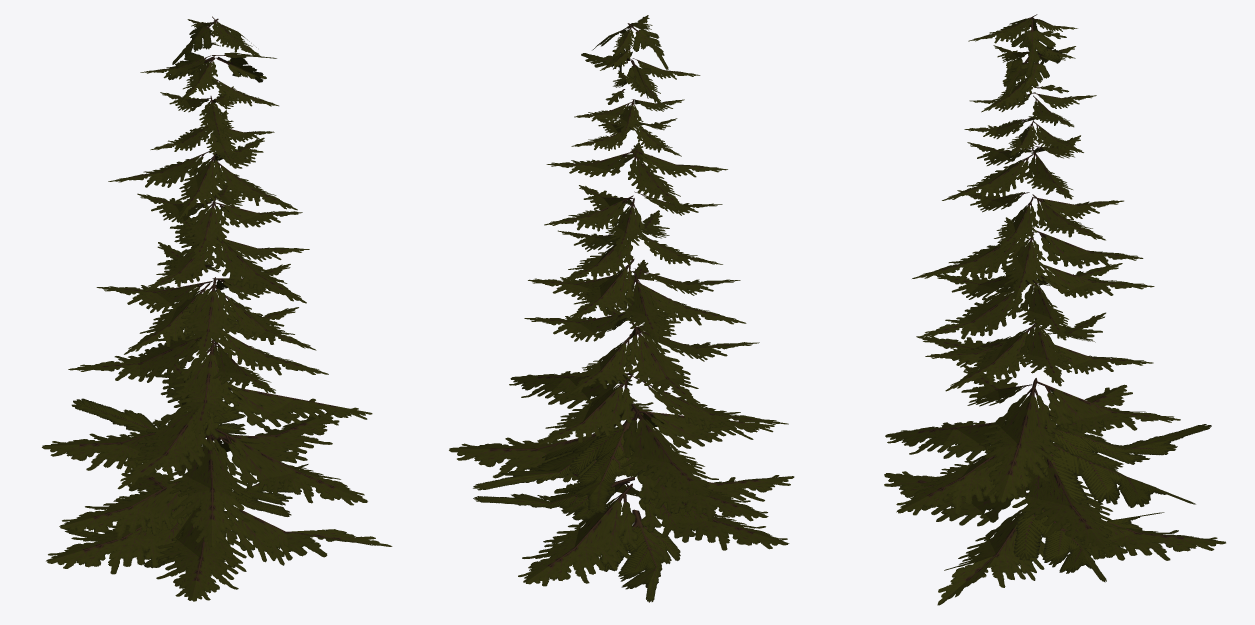
File: Tree_Pine_01_Leafs.obj
3 views of the same model, side by side, from view 1: azimuth 30°, elevation 25°; view 2: azimuth 150°, elevation 25°; view 3: azimuth 270°, elevation 25° (orthographic). The views are drawn at different scales.
Visible parts, largest first — view 1: Plane.041_Mesh, Plane.051_Plane.1539, Plane.043_Plane.1524, Plane.003_Plane.1437, Plane.039_Plane.1520, Plane.011_Plane.1485, Plane.007_Plane.1481, Plane.015_Plane.1489, Plane.010_Plane.1484, Plane.006_Plane.1480, Plane.008_Plane.1482, Plane.045_Plane.1528 (+30 smaller); view 2: Leaf_1_Plane.1479, Plane.008_Plane.1482, Plane.003_Plane.1437, Plane.052_Plane.1548, Plane.056_Plane.1544, Plane.009_Plane.1483, Plane.006_Plane.1480, Plane.045_Plane.1528, Plane.039_Plane.1520, Plane.010_Plane.1484, Plane.041_Mesh, Plane.058_Plane.1546 (+23 smaller); view 3: Plane.010_Plane.1484, Plane.006_Plane.1480, Plane.007_Plane.1481, Plane.058_Plane.1546, Plane.011_Plane.1485, Plane.052_Plane.1548, Plane.057_Plane.1545, Plane.041_Mesh, Plane.009_Plane.1483, Leaf_1_Plane.1479, Plane.051_Plane.1539, Plane.023_Plane.1497 (+27 smaller).
Part boxes in pixels (x1,y1,x2,y2): Plane.041_Mesh: [167, 426, 252, 547]; Plane.051_Plane.1539: [156, 506, 246, 601]; Plane.043_Plane.1524: [117, 406, 219, 489]; Plane.003_Plane.1437: [46, 502, 193, 574]; Plane.039_Plane.1520: [59, 481, 190, 539]; Plane.011_Plane.1485: [215, 429, 367, 505]; Plane.007_Plane.1481: [226, 506, 392, 565]; Plane.015_Plane.1489: [172, 339, 239, 437]; Plane.010_Plane.1484: [224, 387, 372, 427]; Plane.006_Plane.1480: [211, 412, 339, 464]; Plane.008_Plane.1482: [42, 432, 161, 474]; Plane.045_Plane.1528: [68, 336, 201, 382]; Leaf_1_Plane.1479: [518, 483, 638, 586]; Plane.008_Plane.1482: [617, 403, 718, 496]; Plane.003_Plane.1437: [638, 473, 789, 550]; Plane.052_Plane.1548: [569, 408, 653, 513]; Plane.056_Plane.1544: [599, 509, 680, 602]; Plane.009_Plane.1483: [538, 374, 634, 444]; Plane.006_Plane.1480: [449, 432, 602, 483]; Plane.045_Plane.1528: [625, 323, 701, 409]; Plane.039_Plane.1520: [637, 471, 768, 521]; Plane.010_Plane.1484: [509, 371, 632, 408]; Plane.041_Mesh: [633, 410, 774, 448]; Plane.058_Plane.1546: [473, 423, 637, 490]; Plane.010_Plane.1484: [974, 378, 1063, 502]; Plane.006_Plane.1480: [1007, 447, 1126, 548]; Plane.007_Plane.1481: [937, 507, 1044, 605]; Plane.058_Plane.1546: [1037, 443, 1195, 507]; Plane.011_Plane.1485: [896, 450, 1028, 515]; Plane.052_Plane.1548: [1044, 424, 1211, 468]; Plane.057_Plane.1545: [1013, 493, 1106, 582]; Plane.041_Mesh: [885, 421, 1005, 460]; Plane.009_Plane.1483: [1037, 381, 1180, 433]; Leaf_1_Plane.1479: [1082, 520, 1225, 560]; Plane.051_Plane.1539: [884, 471, 1028, 526]; Plane.023_Plane.1497: [918, 283, 1028, 339].
Size of the model in its own units: 2.6 by 3.87 by 2.5.
1 material, 1 textured.
